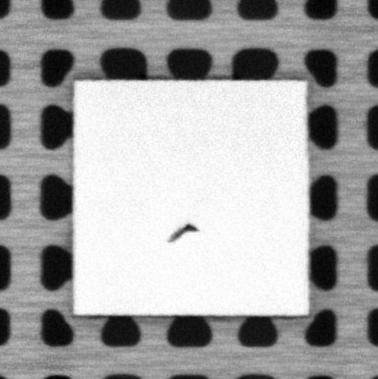DIE_INK: (168, 222, 200, 243)
